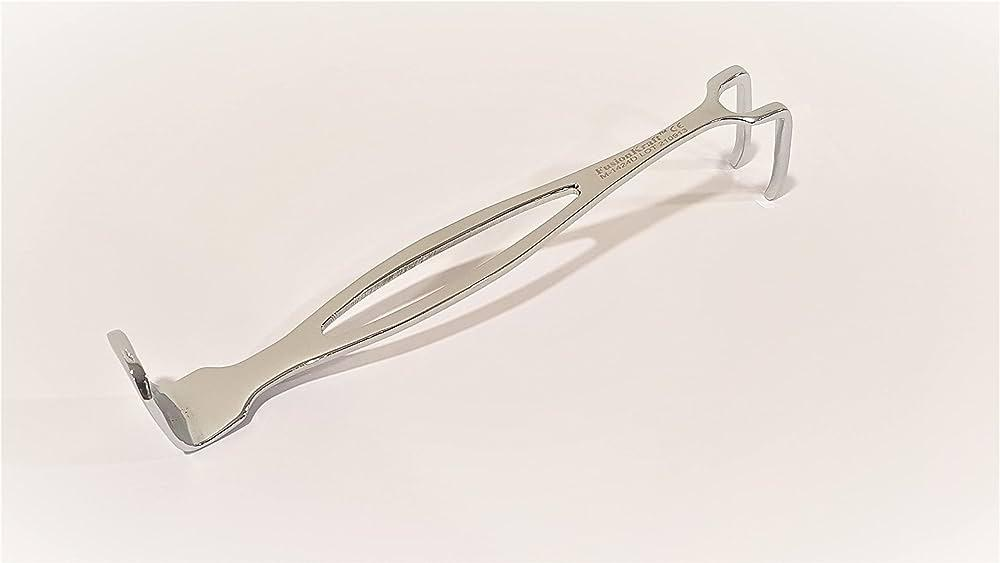Czerney Retractor: (100, 59, 802, 455)
